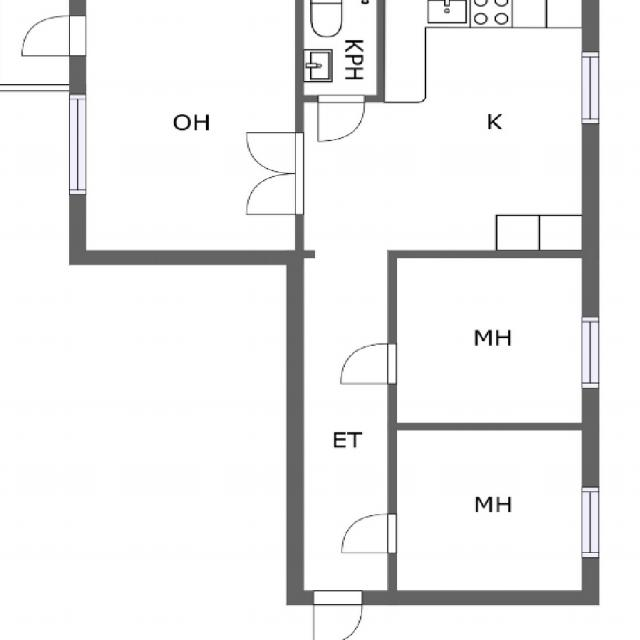door: (18, 187, 86, 231), (314, 589, 363, 640), (246, 173, 304, 215), (246, 132, 304, 174), (341, 512, 397, 552), (318, 95, 365, 142), (341, 344, 397, 383)
